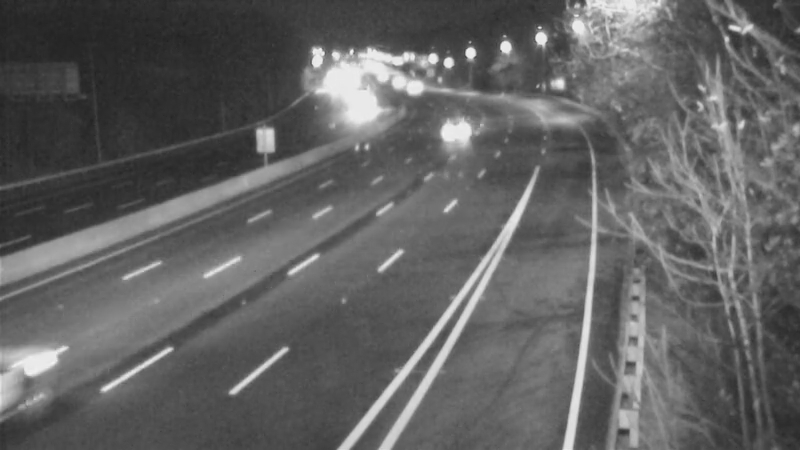vehicle: (1, 318, 91, 428), (418, 112, 468, 162)
